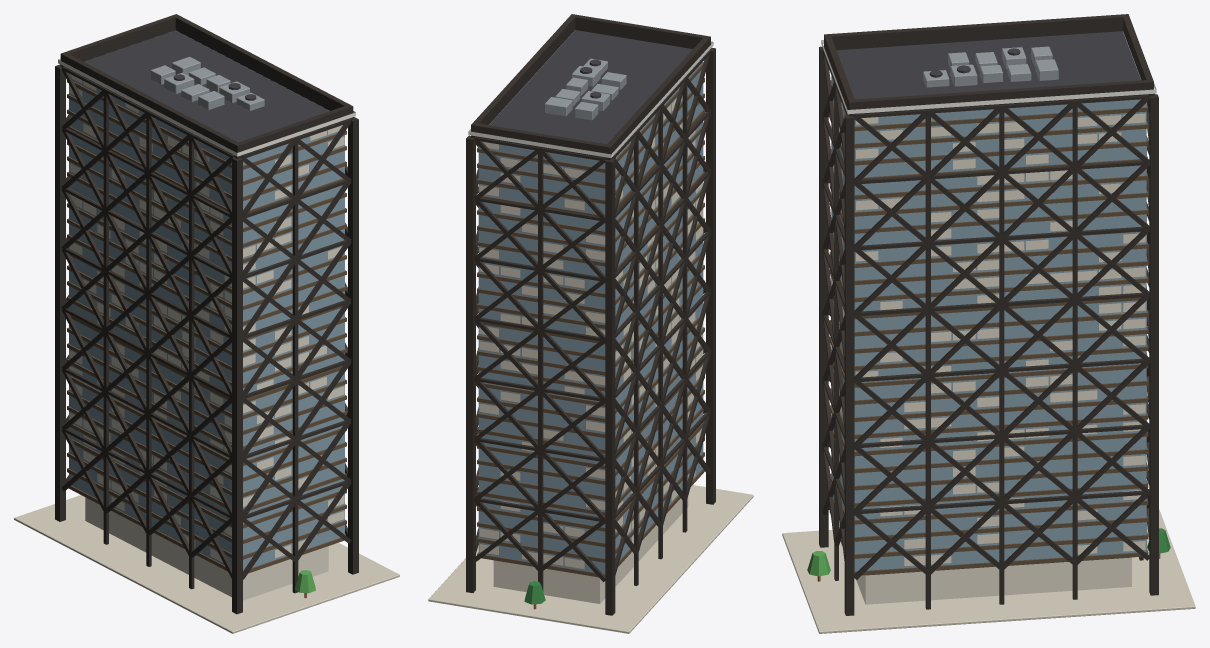
File: 300-clay-street.glb
3 renders of one model, left to right at view 1: azimuth 30°, elevation 25°; view 2: azimuth 150°, elevation 25°; view 3: azimuth 270°, elevation 25°, orthographic. The views are drawn at different scales.
Visible parts, largest first — view 1: 300-clay-street_body, 300-clay-street_night_glow; view 2: 300-clay-street_body, 300-clay-street_night_glow; view 3: 300-clay-street_body, 300-clay-street_night_glow.
Part boxes in pixels (x1,y1,x2,y2): 300-clay-street_body: (14,14,399,633); 300-clay-street_night_glow: (58,58,355,600); 300-clay-street_body: (428,14,753,633); 300-clay-street_night_glow: (468,41,713,603); 300-clay-street_body: (782,14,1195,633); 300-clay-street_night_glow: (821,40,1156,604).
Bounding box in the file's own units: 62.71 × 121 × 88.48.
